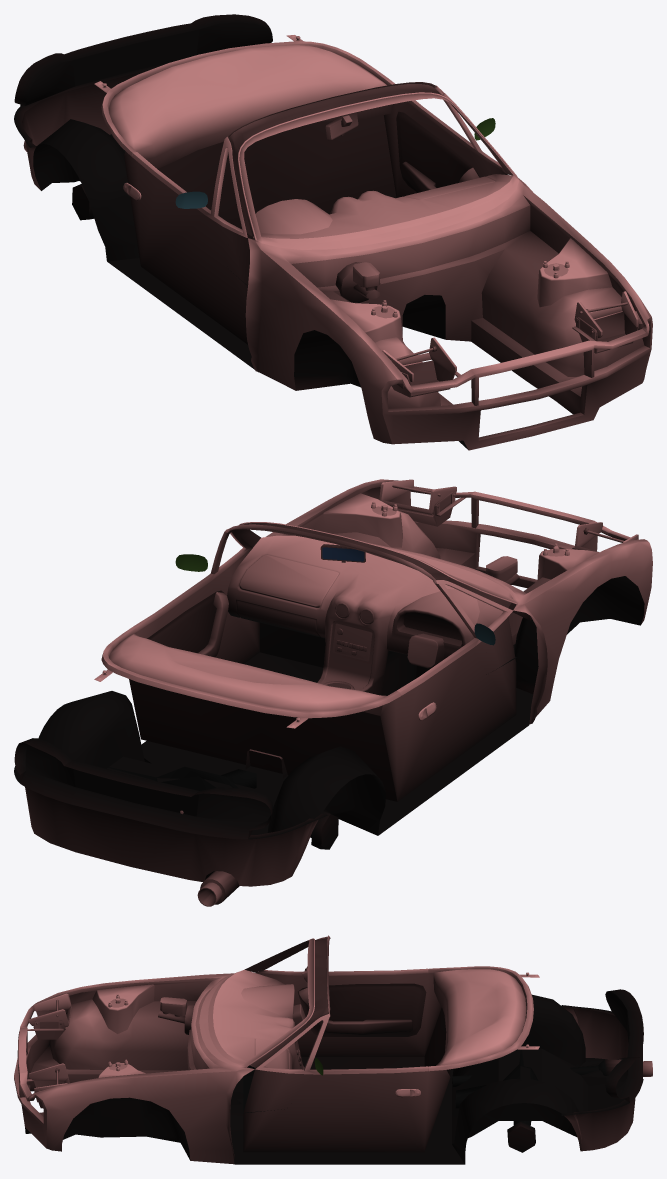
Rendered from MX5_Chassis_Trim.fbx.
3 renders of one model, top to bottom at view 1: azimuth 30°, elevation 25°; view 2: azimuth 150°, elevation 25°; view 3: azimuth 270°, elevation 25°, orthographic. The views are drawn at different scales.
Parts seen in each view (by area): view 1: MX5_Chassis_Trim; view 2: MX5_Chassis_Trim; view 3: MX5_Chassis_Trim.
Boxes of the visible parts, box(x1,y1,x2,y2) form: MX5_Chassis_Trim: box(14, 14, 652, 450); MX5_Chassis_Trim: box(14, 479, 652, 906); MX5_Chassis_Trim: box(14, 935, 652, 1164).
Size of the model in its own units: 167 by 101 by 380.
